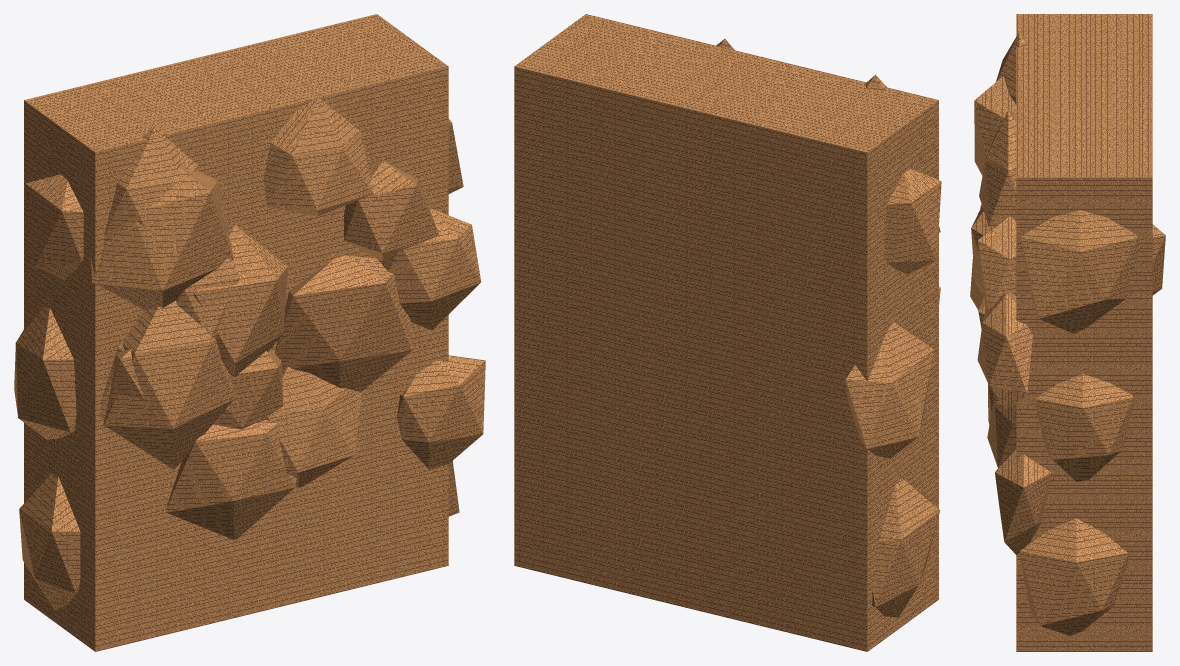
Rendered from cave_chimney_sand.glb.
3 renders of one model, left to right at view 1: azimuth 30°, elevation 25°; view 2: azimuth 150°, elevation 25°; view 3: azimuth 270°, elevation 25°, orthographic. The views are drawn at different scales.
Parts seen in each view (by area): view 1: Body.002; view 2: Body.002; view 3: Body.002.
Boxes of the visible parts, x1,y1,x2,y2 form: Body.002: (14, 14, 485, 651); Body.002: (514, 14, 941, 651); Body.002: (970, 14, 1165, 651).
Bounding box in the file's own units: 8.87 × 10.23 × 3.74.
Materials: 1 (1 with a texture image).
